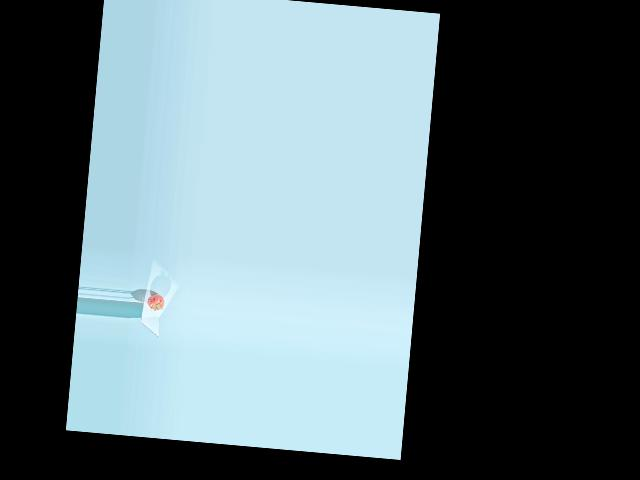tomato: (146, 293, 164, 311)
